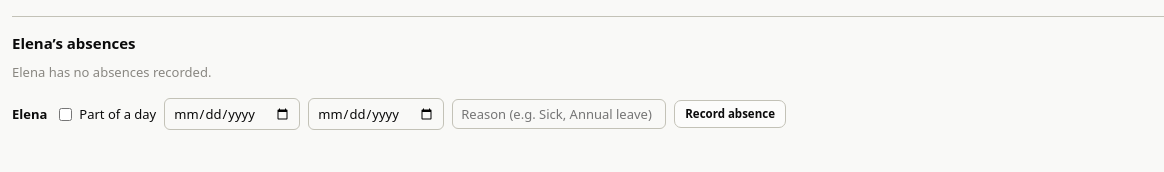
OperatorAbsences — recording and removing in place (R-360) › a server refusal is shown in words, never pre-guessed
Check: the text "Elena has no absences recorded." is shown, box x1=12 y1=63 x2=211 y2=81
In the date field named "From": {"x": 232, "y": 114} x1=164 y1=98 x2=300 y2=130, type "2027-05-01"
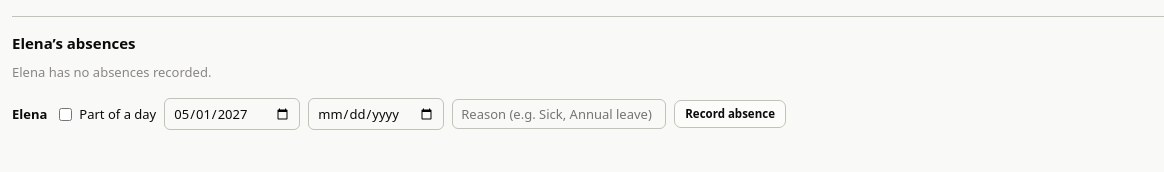
In the date field named "To": {"x": 376, "y": 114} x1=308 y1=98 x2=444 y2=130, type "2027-05-03"
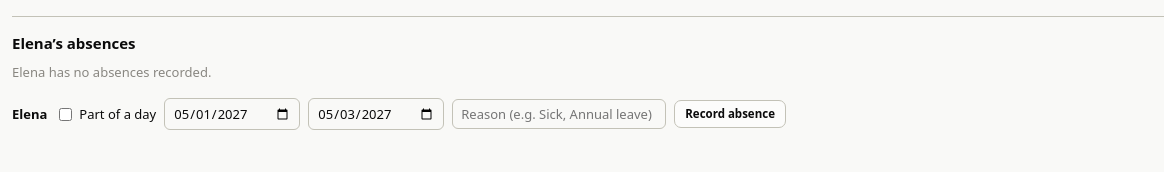
In the field labelled "Reason": {"x": 559, "y": 114} x1=452 y1=99 x2=666 y2=129, type "Leave"
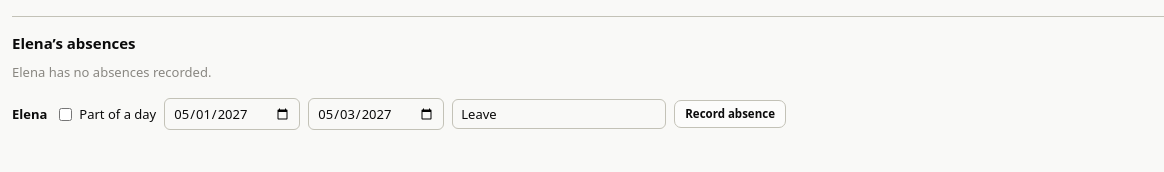
Click the button "Record absence": {"x": 730, "y": 114} x1=674 y1=100 x2=786 y2=128
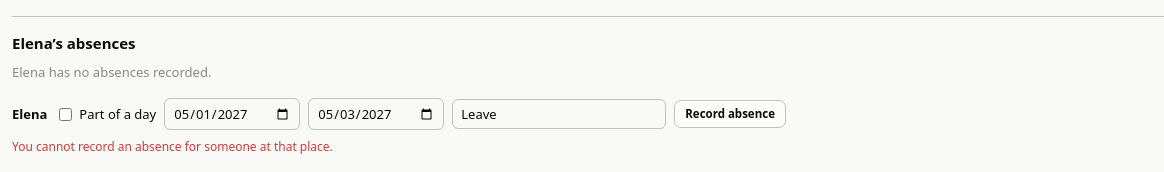
Check: the text "You cannot record an absence for someone at that place." is shown, box x1=12 y1=138 x2=333 y2=155
